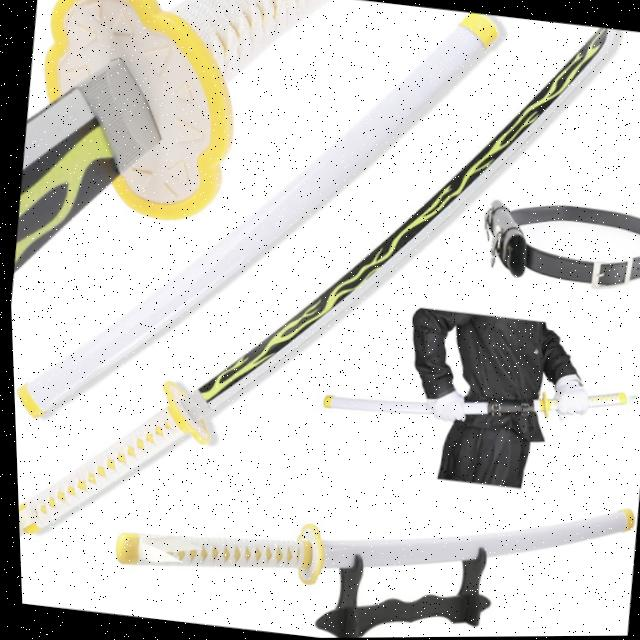knife: (0, 0, 640, 607), (2, 0, 370, 324), (104, 446, 636, 629), (316, 354, 627, 447)
